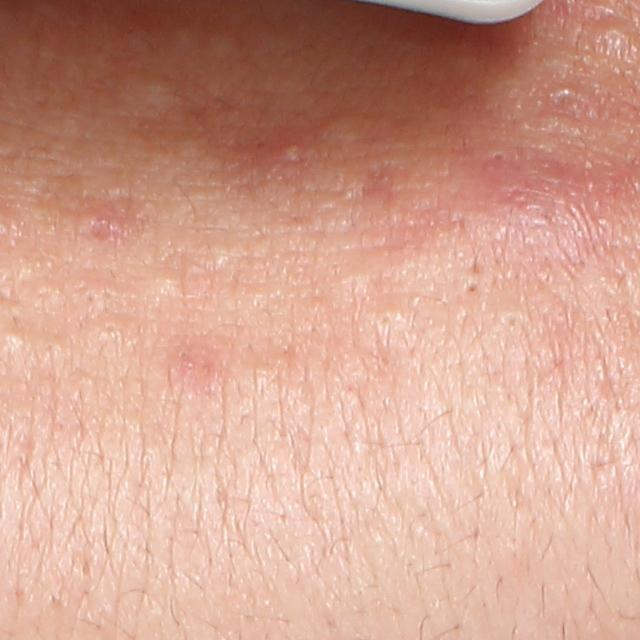comedo: (131, 73, 178, 117), (151, 271, 183, 301), (464, 277, 486, 296), (489, 148, 507, 163)
